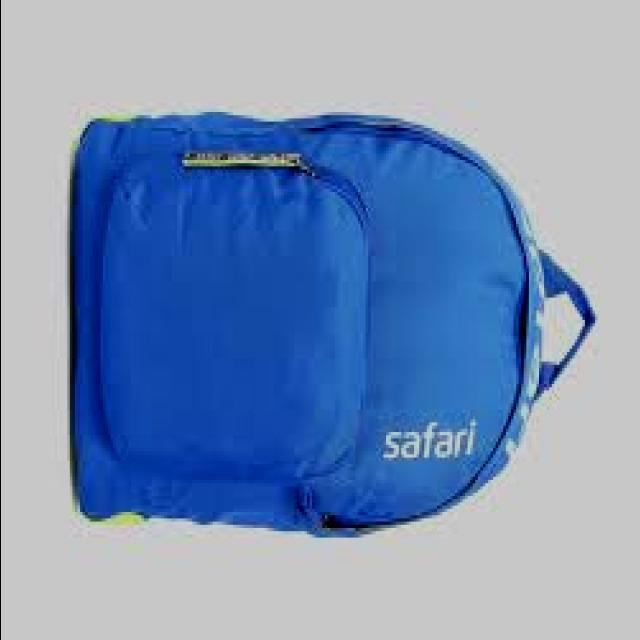backpack: (72, 110, 598, 539)
